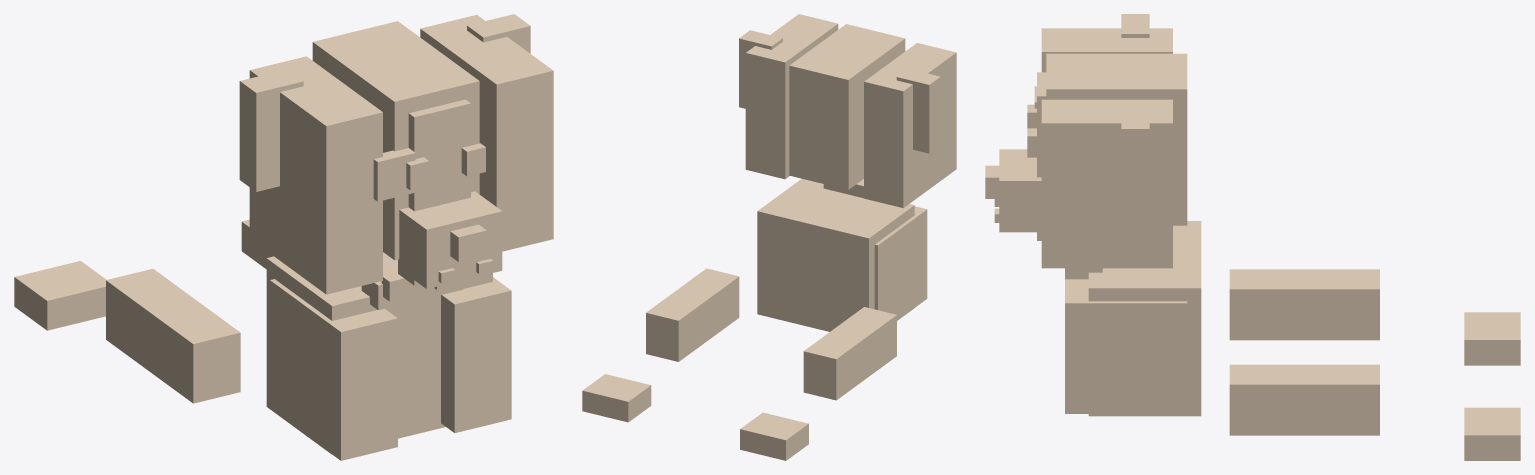
The model's file is dog_dealer.glb.
The picture shows the model from 3 angles, left to right: view 1: azimuth 30°, elevation 25°; view 2: azimuth 150°, elevation 25°; view 3: azimuth 270°, elevation 25°; orthographic projection. The views are drawn at different scales.
Visible parts, largest first — view 1: dog_dealer; view 2: dog_dealer; view 3: dog_dealer.
Part boxes in pixels (x1,y1,x2,y2): dog_dealer: [14, 14, 553, 460]; dog_dealer: [582, 14, 956, 460]; dog_dealer: [985, 14, 1520, 460].
Size of the model in its own units: 0.62 by 0.77 by 1.14.
